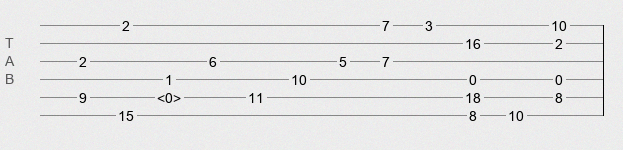0: (469, 72, 477, 82), (555, 72, 563, 82)
1: (165, 72, 173, 82)
10: (291, 72, 307, 82), (508, 108, 524, 118), (551, 18, 567, 28)
11: (248, 90, 264, 100)
15: (118, 108, 134, 118)
16: (465, 36, 481, 46)
18: (465, 90, 481, 100)
2: (79, 54, 87, 64), (122, 18, 130, 28), (555, 36, 563, 46)
3: (425, 18, 433, 28)
5: (339, 54, 347, 64)
6: (209, 54, 217, 64)
7: (382, 18, 390, 28), (382, 54, 390, 64)
8: (469, 108, 477, 118), (555, 90, 563, 100)
9: (79, 90, 87, 100)
harmonic: (157, 90, 181, 100)
